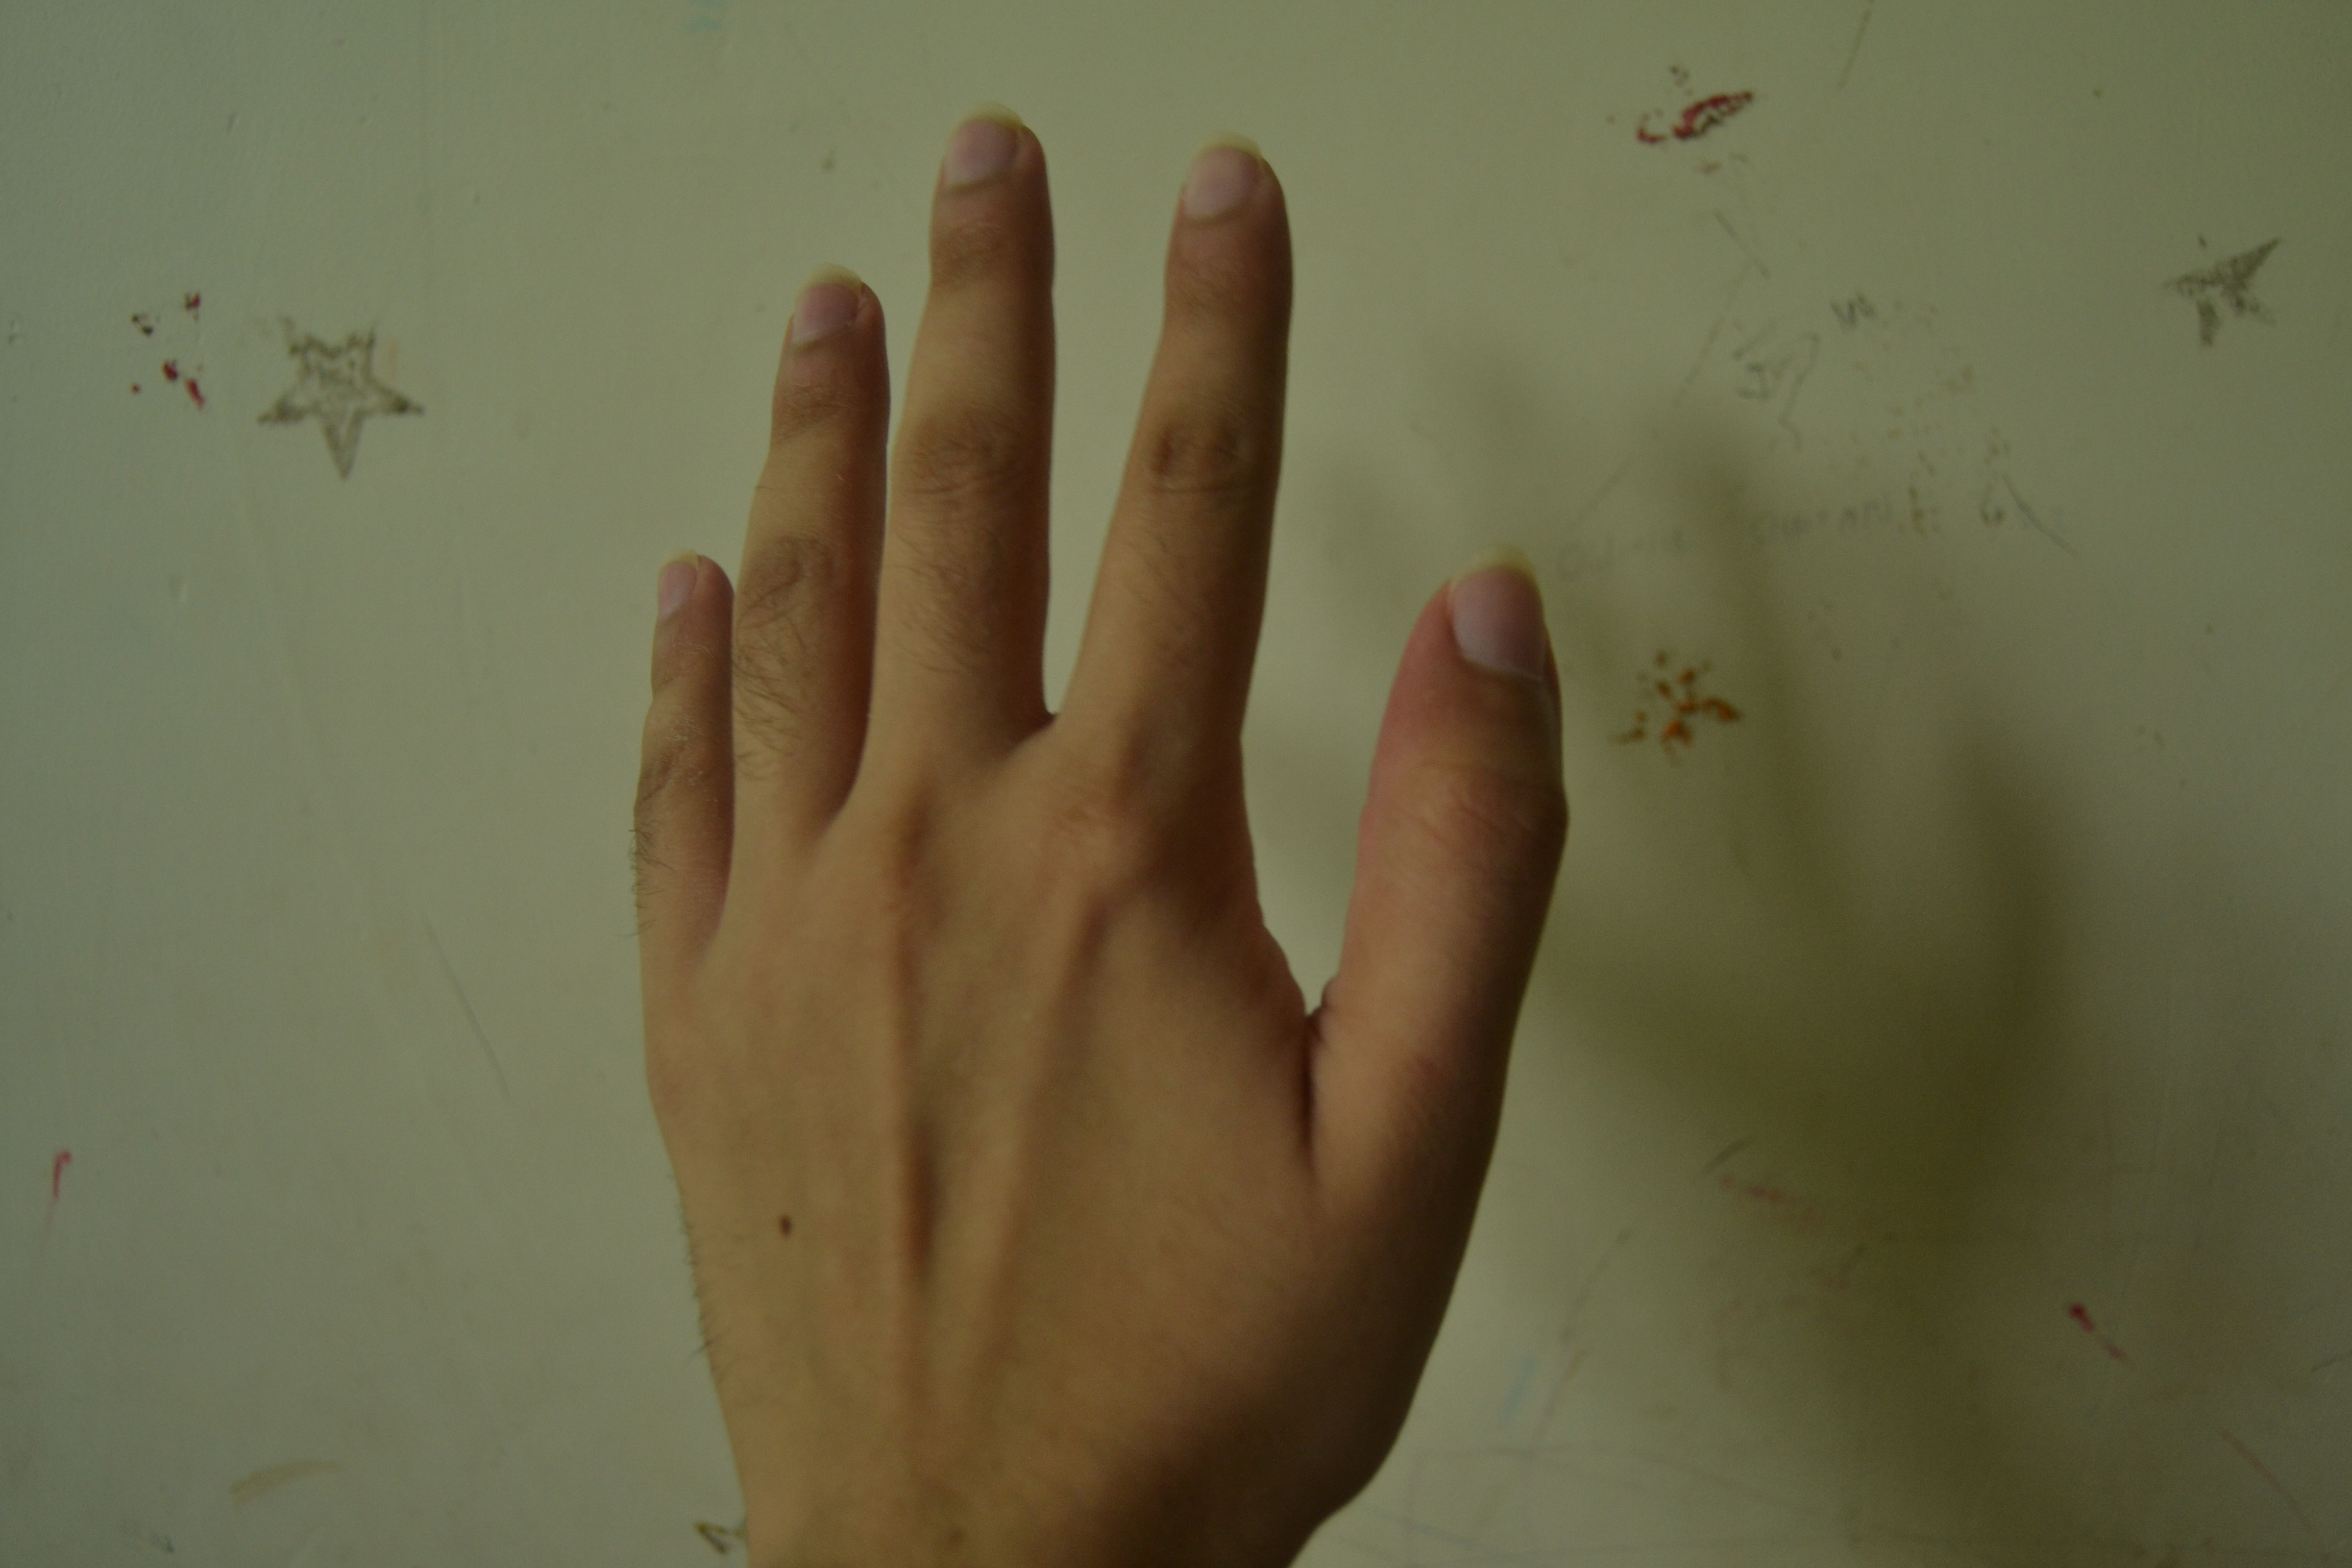move: (621, 93, 1563, 1568)
